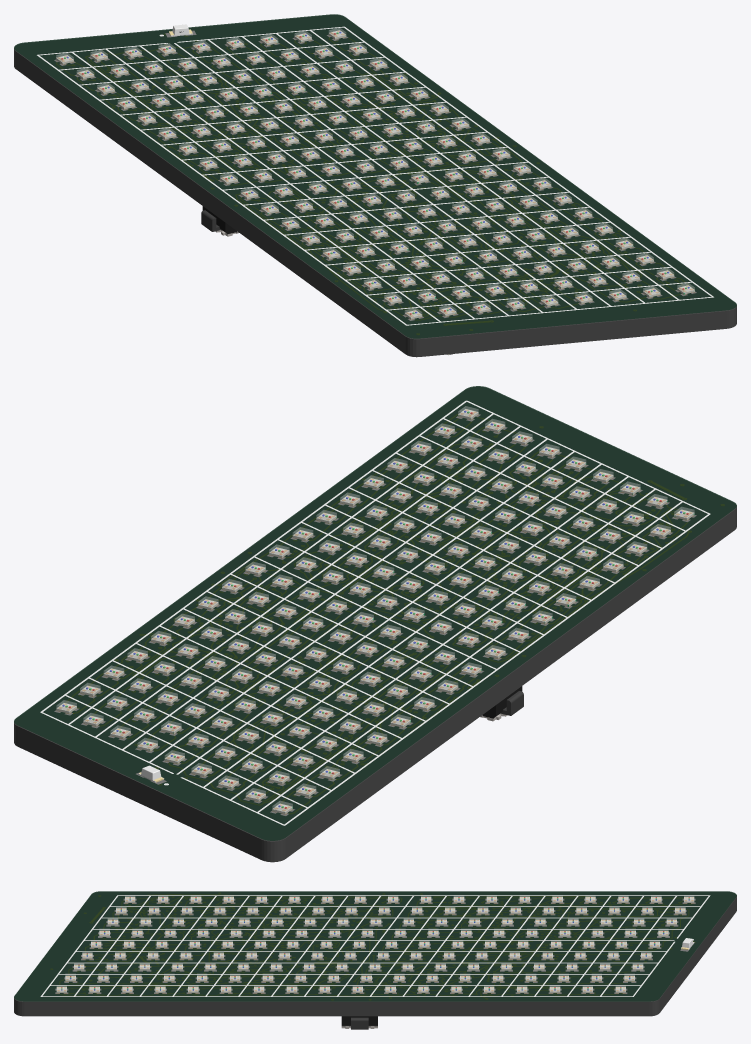
File: board.glb
3 renders of one model, top to bottom at view 1: azimuth 30°, elevation 25°; view 2: azimuth 150°, elevation 25°; view 3: azimuth 270°, elevation 25°, orthographic. The views are drawn at different scales.
Visible parts, largest first — view 1: parallelogram_soldermask, parallelogram_PCB, parallelogram_silkscreen, parallelogram_pad, parallelogram_copper; view 2: parallelogram_soldermask, parallelogram_PCB, parallelogram_silkscreen, parallelogram_pad, parallelogram_copper; view 3: parallelogram_soldermask, parallelogram_PCB, parallelogram_silkscreen, parallelogram_pad, parallelogram_copper, SW-SMD_EVQP7C01P-L3.6-W3.5-H1.4-P3.6-LS4.7.
Part boxes in pixels (bbox=[...]): parallelogram_soldermask: bbox=[14, 14, 736, 338]; parallelogram_PCB: bbox=[14, 15, 736, 357]; parallelogram_silkscreen: bbox=[37, 26, 713, 325]; parallelogram_pad: bbox=[54, 30, 696, 320]; parallelogram_copper: bbox=[56, 34, 683, 334]; parallelogram_soldermask: bbox=[14, 386, 736, 840]; parallelogram_PCB: bbox=[14, 387, 736, 862]; parallelogram_silkscreen: bbox=[40, 400, 710, 825]; parallelogram_pad: bbox=[54, 414, 696, 816]; parallelogram_copper: bbox=[68, 414, 724, 813]; parallelogram_soldermask: bbox=[14, 891, 736, 1001]; parallelogram_PCB: bbox=[14, 892, 736, 1016]; parallelogram_silkscreen: bbox=[40, 895, 710, 996]; parallelogram_pad: bbox=[55, 898, 695, 993]; parallelogram_copper: bbox=[52, 893, 693, 998]; SW-SMD_EVQP7C01P-L3.6-W3.5-H1.4-P3.6-LS4.7: bbox=[341, 1016, 377, 1029].
Size of the model in its own units: 0.0259 by 0.00363 by 0.0693.
